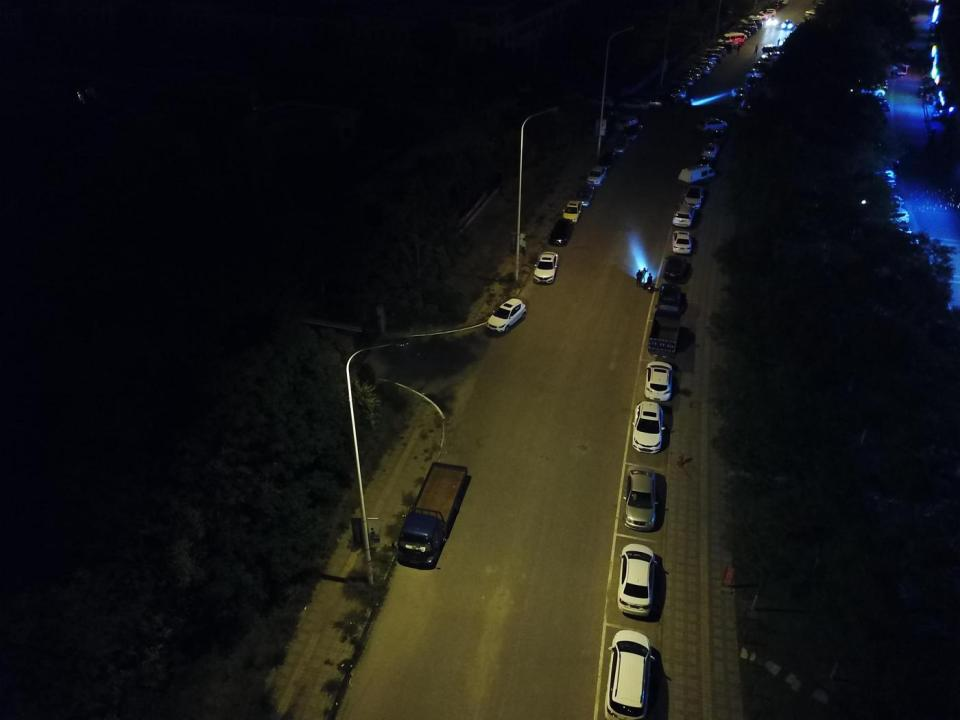car: (603, 626, 655, 720), (616, 542, 659, 620), (623, 466, 661, 533), (633, 401, 667, 453), (484, 297, 528, 332), (642, 358, 674, 400), (862, 222, 916, 244), (855, 187, 905, 208), (860, 204, 910, 224), (530, 249, 558, 283), (659, 251, 692, 279), (682, 179, 707, 209), (549, 217, 575, 244), (672, 201, 696, 227), (658, 278, 684, 302), (584, 161, 608, 187), (671, 228, 694, 255), (575, 182, 598, 207), (694, 116, 728, 132), (648, 91, 678, 108), (562, 199, 583, 221), (614, 116, 640, 132), (856, 91, 888, 104), (598, 150, 618, 170), (586, 94, 614, 108), (623, 123, 644, 141), (664, 81, 690, 95), (619, 98, 649, 110), (864, 77, 888, 92), (660, 88, 687, 101), (702, 140, 720, 159), (560, 90, 586, 103), (640, 95, 664, 109), (732, 106, 761, 117), (680, 66, 704, 79), (858, 85, 886, 96), (760, 50, 785, 62), (864, 98, 889, 110), (746, 75, 769, 88), (746, 66, 769, 79), (731, 93, 749, 109), (687, 65, 713, 76), (612, 137, 631, 152), (710, 130, 730, 144), (671, 74, 694, 86), (677, 71, 703, 81), (699, 154, 716, 169), (756, 55, 776, 67), (726, 30, 752, 39), (697, 56, 717, 67), (700, 53, 724, 62), (761, 42, 779, 54), (750, 62, 774, 71), (694, 60, 714, 70), (731, 88, 749, 99), (752, 12, 770, 22), (746, 16, 762, 27), (710, 47, 728, 56), (716, 43, 734, 52), (730, 32, 748, 41), (761, 8, 777, 18), (740, 22, 757, 31), (718, 40, 737, 48), (736, 27, 756, 34), (780, 18, 793, 28), (702, 50, 723, 56), (742, 26, 758, 32), (760, 12, 776, 18), (747, 22, 762, 28), (768, 17, 777, 25)
truck: (398, 460, 466, 569), (648, 295, 686, 358)
van: (678, 160, 718, 185), (723, 33, 745, 44), (804, 9, 824, 20)
